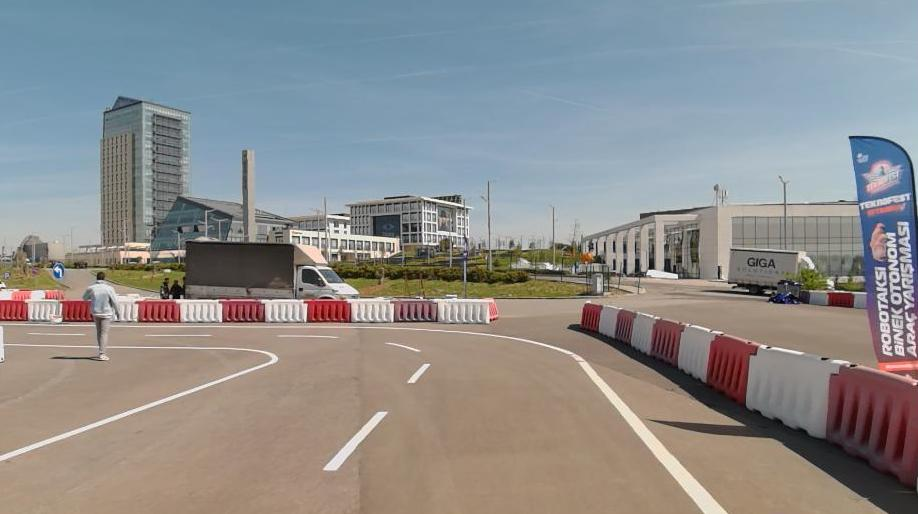nesne: (0, 322, 736, 512), (111, 323, 735, 512), (122, 323, 730, 512), (0, 329, 429, 512), (574, 301, 917, 490), (0, 344, 277, 465), (828, 362, 917, 485), (183, 239, 364, 298), (743, 341, 844, 440), (116, 298, 487, 321), (723, 241, 835, 295), (320, 408, 390, 469), (707, 330, 755, 405), (81, 270, 118, 362), (679, 325, 718, 385), (649, 316, 686, 369), (0, 301, 93, 321), (625, 311, 659, 359), (802, 288, 870, 312), (263, 296, 309, 323), (435, 300, 489, 323), (217, 298, 263, 323), (391, 298, 438, 322), (175, 300, 220, 323), (346, 298, 391, 321), (307, 298, 348, 323), (137, 298, 177, 322), (595, 302, 618, 340), (611, 309, 634, 346), (26, 298, 62, 320), (770, 277, 800, 303), (0, 320, 94, 328), (579, 301, 600, 334), (60, 299, 90, 321), (2, 341, 95, 347), (276, 329, 337, 338), (406, 361, 430, 382), (0, 301, 25, 320), (117, 297, 137, 320), (156, 274, 171, 300), (828, 291, 853, 306), (387, 341, 420, 352), (26, 330, 85, 336), (851, 292, 868, 312), (49, 262, 65, 279), (810, 290, 827, 304), (171, 275, 181, 295), (28, 288, 48, 298), (44, 288, 63, 298), (0, 288, 14, 301), (796, 289, 808, 302), (13, 291, 29, 299), (48, 313, 60, 322)
